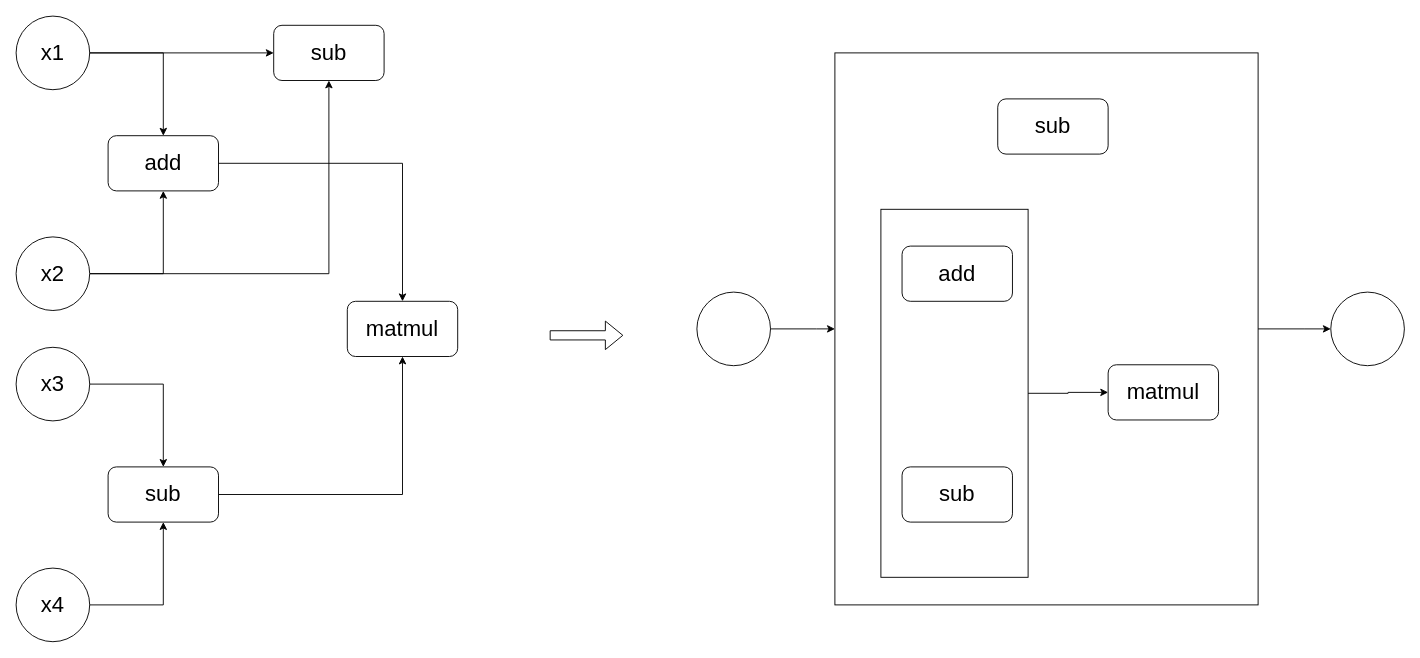
The diagram is 1420 pixels wide and 658 high, and some of its shapes have lost their labels. The centre of each missing label's shape, as x and y in pixels:
begin: (733,328)
end: (1367,328)
